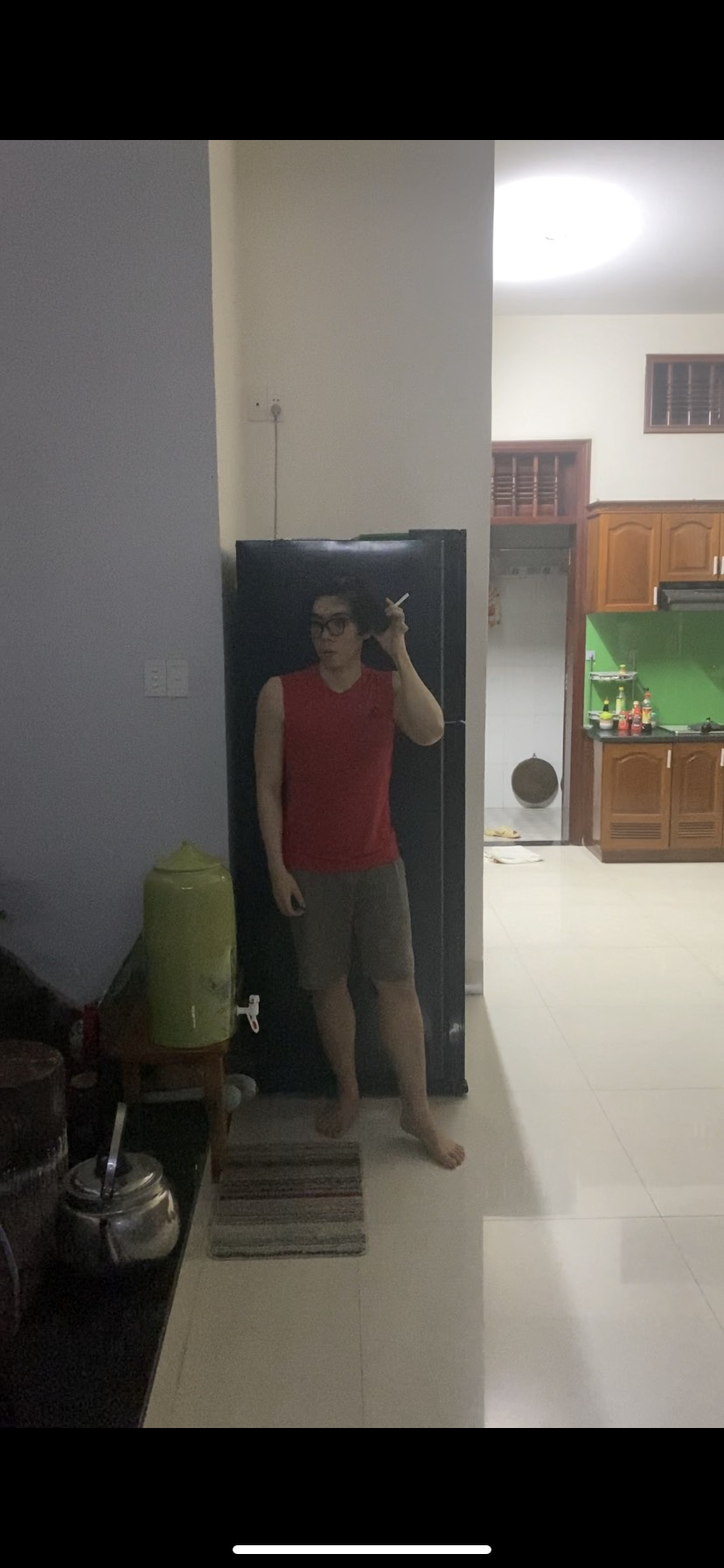cigarette: (395, 590, 414, 606)
person: (248, 565, 471, 1187)
